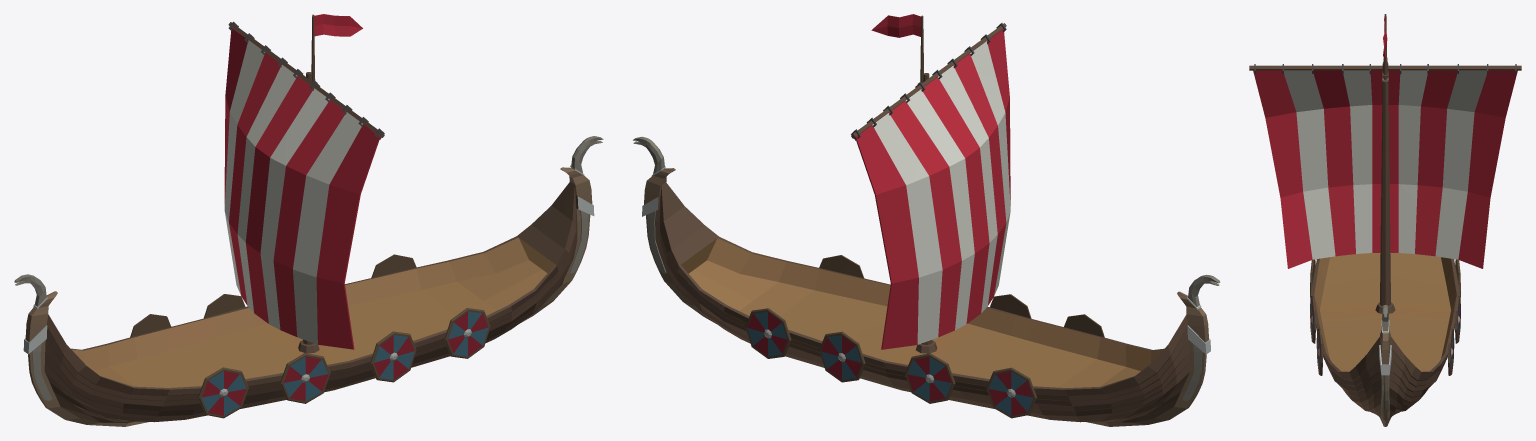
File: vik.obj
The picture shows the model from 3 angles, left to right: view 1: azimuth 30°, elevation 25°; view 2: azimuth 150°, elevation 25°; view 3: azimuth 270°, elevation 25°; orthographic projection. The views are drawn at different scales.
Visible parts, largest first — view 1: Body, Sail, Mast; view 2: Body, Sail, Mast; view 3: Sail, Body, Mast.
Part boxes in pixels (bbox=[...]): Body: bbox=[14, 136, 603, 426]; Sail: bbox=[224, 14, 380, 349]; Mast: bbox=[228, 14, 384, 353]; Body: bbox=[633, 136, 1220, 426]; Sail: bbox=[855, 14, 1010, 349]; Mast: bbox=[851, 15, 1006, 353]; Sail: bbox=[1253, 16, 1517, 268]; Body: bbox=[1310, 57, 1460, 426]; Mast: bbox=[1249, 14, 1521, 313].
Bounding box in the file's own units: 257 × 152 × 115.
